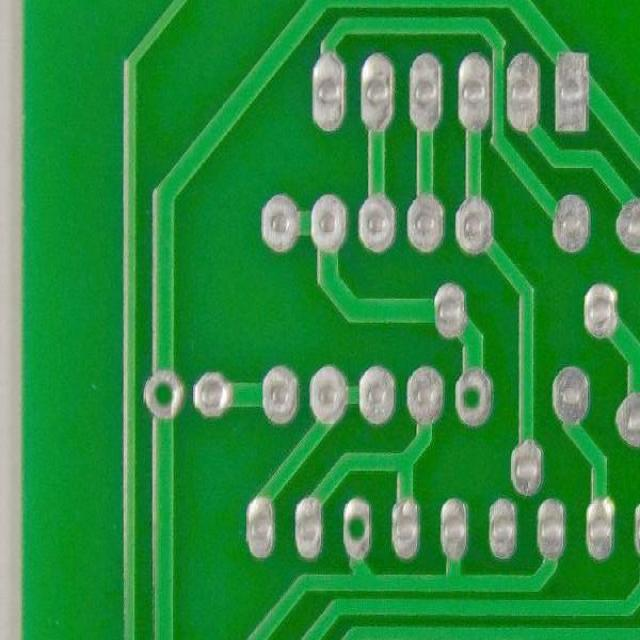missing hole: (449, 362, 498, 429), (337, 491, 379, 566), (139, 365, 190, 423)
